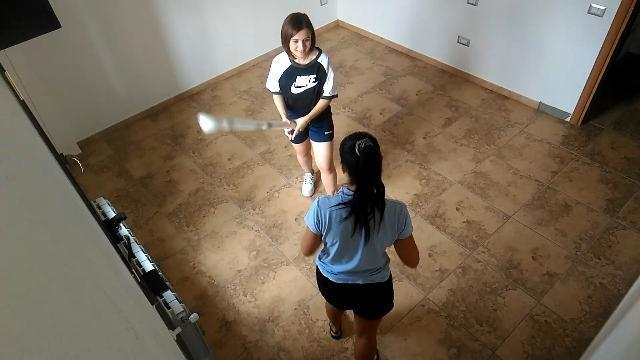non-violence: (297, 128, 427, 360)
violence: (197, 12, 343, 200)
